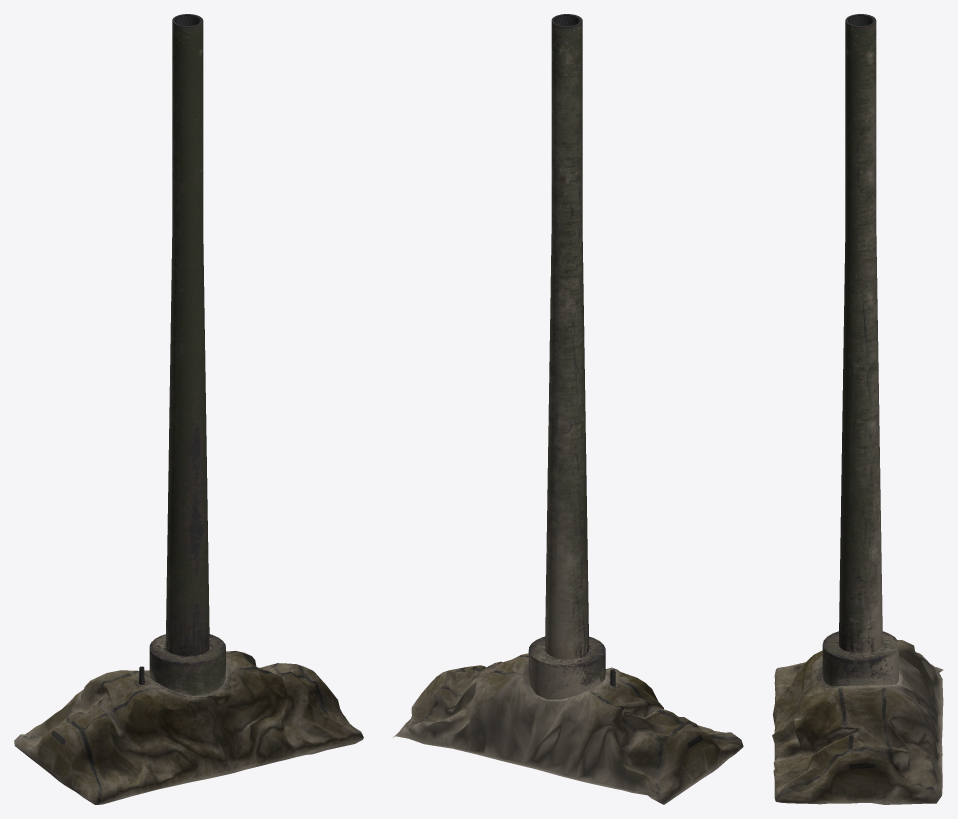
Rendered from Gun_01.glb.
3 renders of one model, left to right at view 1: azimuth 30°, elevation 25°; view 2: azimuth 150°, elevation 25°; view 3: azimuth 270°, elevation 25°, orthographic.
Parts seen in each view (by area): view 1: set_0_group_0; view 2: set_0_group_0; view 3: set_0_group_0.
Boxes of the visible parts, bbox=[...] form: set_0_group_0: bbox=[14, 14, 363, 804]; set_0_group_0: bbox=[393, 14, 743, 804]; set_0_group_0: bbox=[772, 14, 943, 804].
Bounding box in the file's own units: 1.65 × 4.12 × 0.8923.
Materials: 1 (1 with a texture image).
